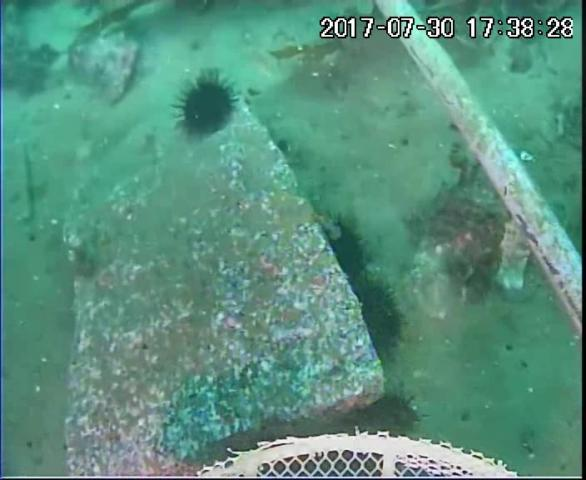echinus: (349, 278, 407, 355), (179, 73, 238, 139), (363, 391, 423, 439), (326, 219, 371, 282)
